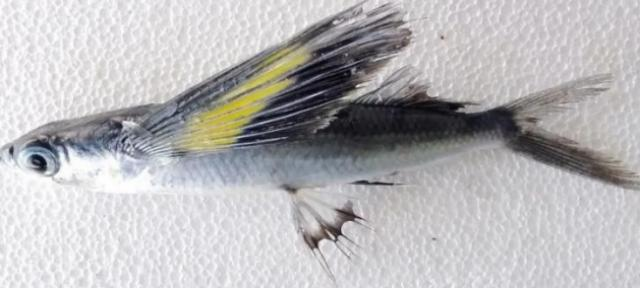Sirip Dada: (110, 2, 426, 174)
Sirip Ekor: (496, 62, 640, 208)
Sirip Perut: (268, 173, 420, 288)
Sirip Punggung: (358, 57, 474, 119)
